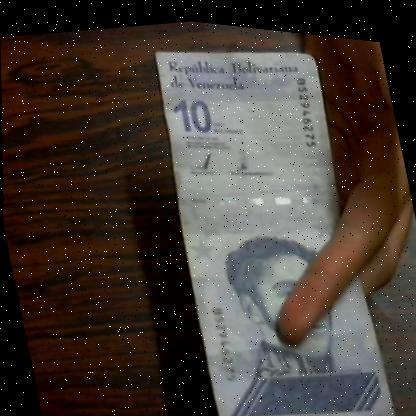ten-front-vef: (141, 16, 397, 416)
